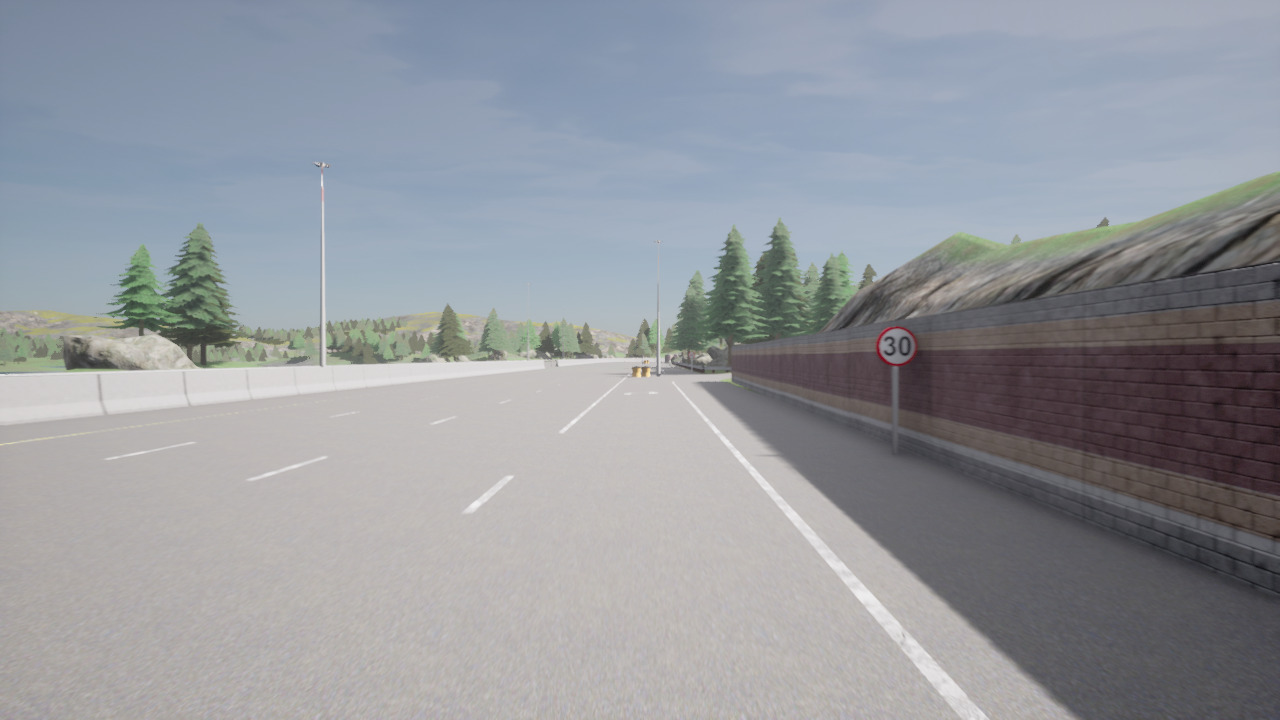sl30: (874, 325, 920, 367)
